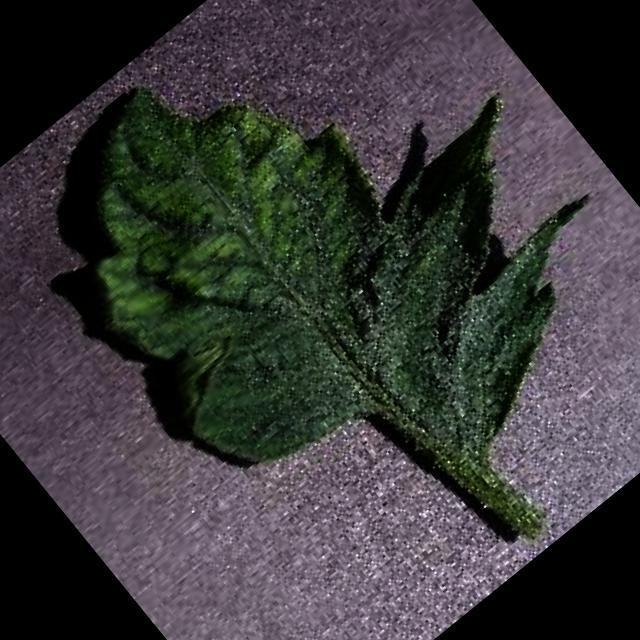Tomato mosaic virus leaf: (0, 0, 640, 595)
